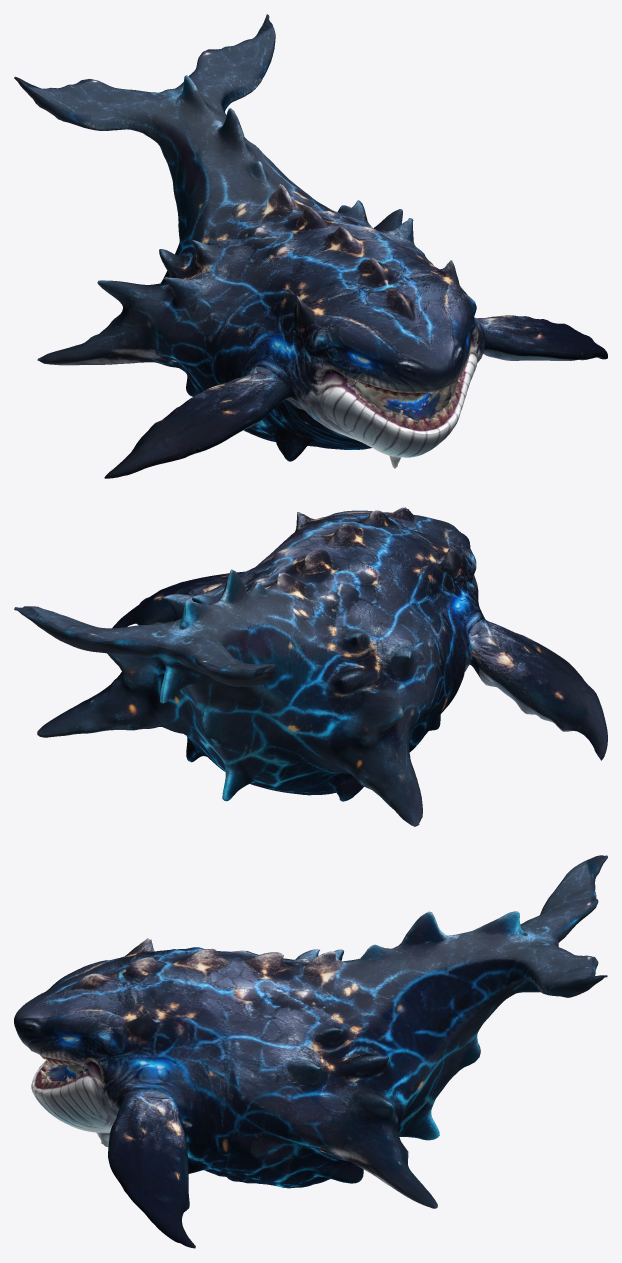
The model's file is Space Monster Whale.glb.
3 views of the same model, one above another, from view 1: azimuth 30°, elevation 25°; view 2: azimuth 150°, elevation 25°; view 3: azimuth 270°, elevation 25° (orthographic).
Parts seen in each view (by area): view 1: Mesh0; view 2: Mesh0; view 3: Mesh0.
Part boxes in pixels (box(x1,y1,x2,y2)): Mesh0: box(14, 14, 607, 478); Mesh0: box(14, 507, 607, 826); Mesh0: box(14, 855, 607, 1248).
Size of the model in its own units: 1.81 by 0.9227 by 1.9.
1 material, 1 textured.
